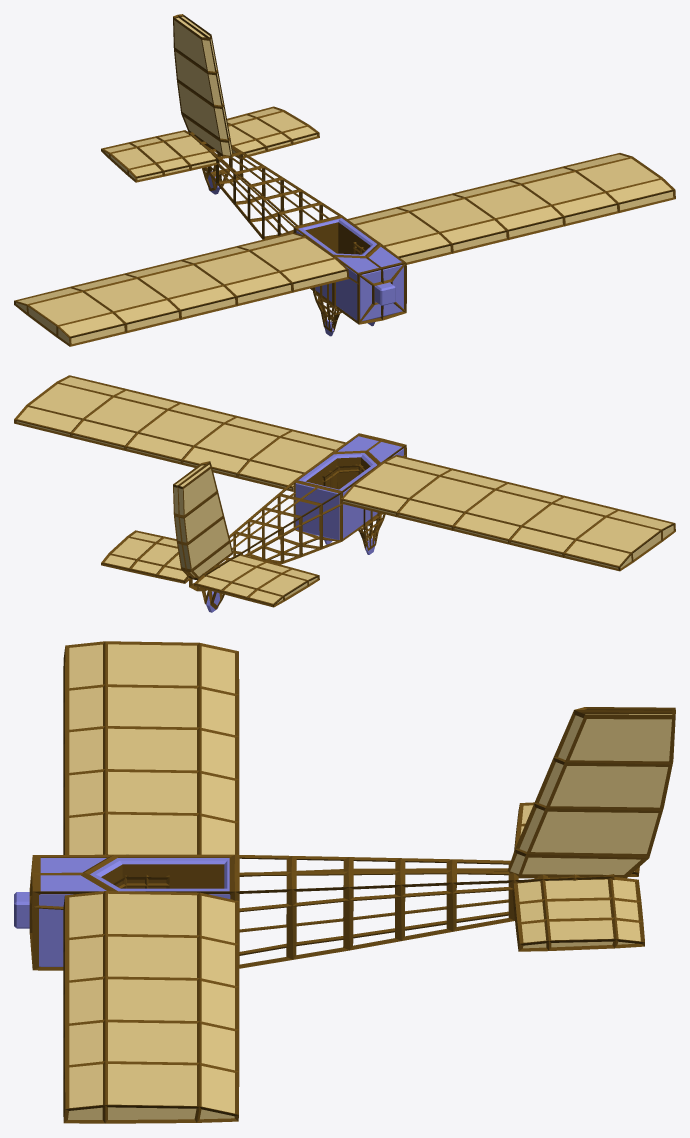
The model's file is small_paper_plane.fbx.
The picture shows the model from 3 angles, top to bottom: view 1: azimuth 30°, elevation 25°; view 2: azimuth 150°, elevation 25°; view 3: azimuth 270°, elevation 25°; orthographic projection. The views are drawn at different scales.
Visible parts, largest first — view 1: Cube.004, Cube.019, Cube, Cube.020, Cube.016, Cube.021; view 2: Cube.004, Cube.019, Cube, Cube.020, Cube.016, Cube.021; view 3: Cube.004, Cube.020, Cube, Cube.019, Cube.016.
Part boxes in pixels (<box>): Cube.004: <box>14,153,675,346</box>; Cube.019: <box>101,106,319,182</box>; Cube: <box>189,132,406,324</box>; Cube.020: <box>173,14,232,158</box>; Cube.016: <box>296,218,403,321</box>; Cube.021: <box>313,242,365,332</box>; Cube.004: <box>14,375,675,571</box>; Cube.019: <box>101,530,319,607</box>; Cube: <box>189,433,406,609</box>; Cube.020: <box>173,461,232,579</box>; Cube.016: <box>295,436,403,539</box>; Cube.021: <box>322,464,385,550</box>; Cube.004: <box>63,641,239,1123</box>; Cube.020: <box>507,707,675,878</box>; Cube: <box>29,854,614,970</box>; Cube.019: <box>512,802,644,951</box>; Cube.016: <box>14,858,230,966</box>.
Bounding box in the file's own units: 654 × 324 × 1084.
